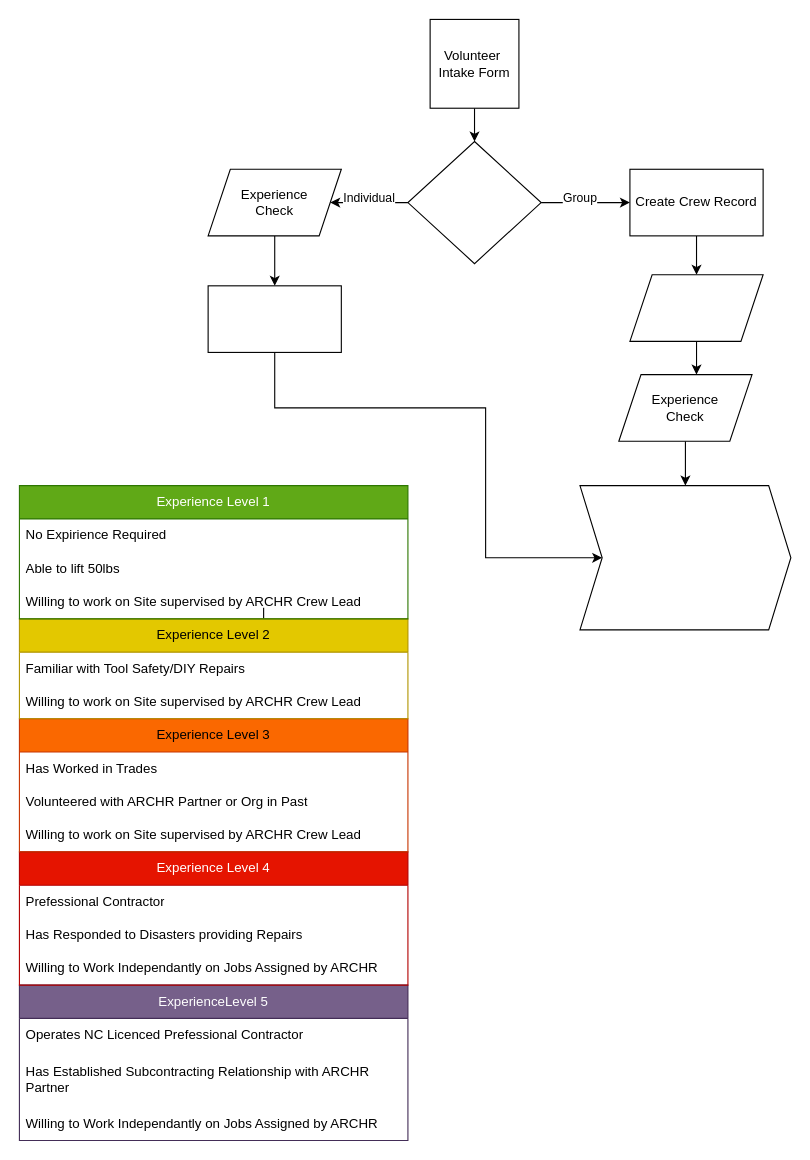
The diagram is 810 pixels wide and 1160 high, and some of its shapes have lost their labels. The shapes that lost their labels are listed below. From the top down, each one's centre as x and y in pixels, then its label:
At (474,202): "Individual Or Group".
At (274,318): "Individual assigned Work Crew Bsed on Experience".
At (696,307): "Determine Crew Lead".
At (685,557): "Start Work Crew Claim Process".
